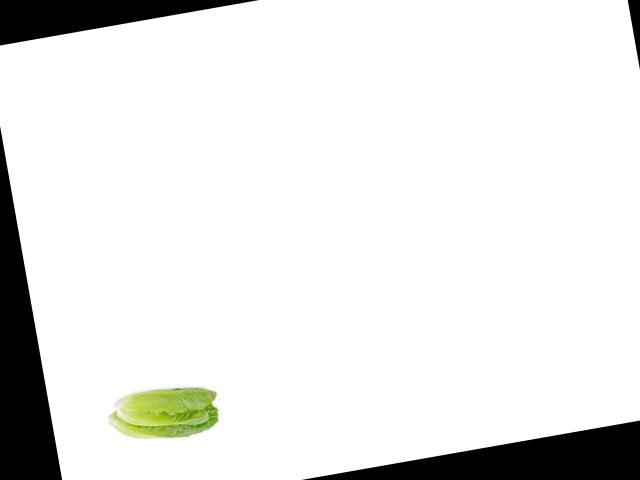lettuce: (104, 372, 224, 448)
